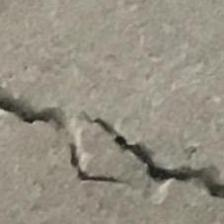Crack: (0, 77, 224, 209)
